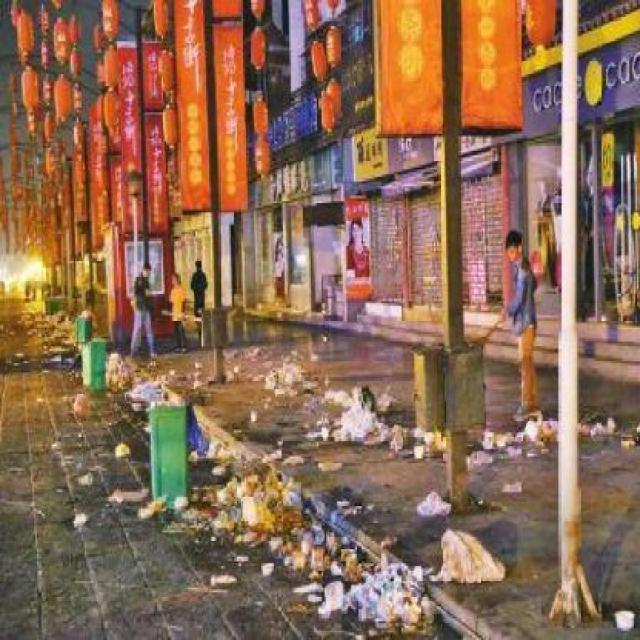garbage: (280, 532, 437, 628), (203, 437, 299, 564), (308, 377, 401, 440), (432, 514, 503, 588), (106, 343, 172, 400), (255, 346, 310, 401)
